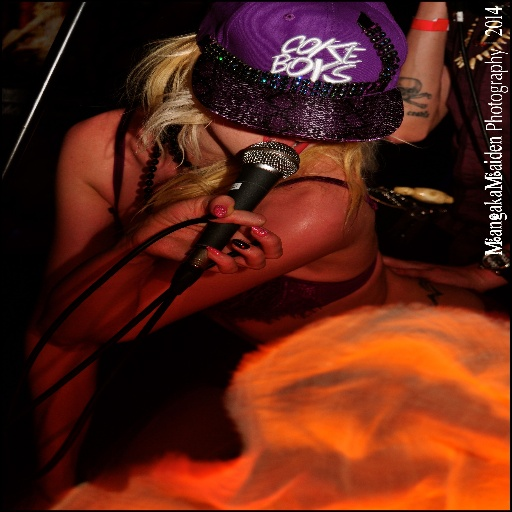hand: (128, 195, 283, 272), (380, 256, 485, 292)
